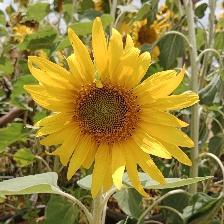sunflower: (23, 19, 204, 202), (129, 16, 174, 58)
